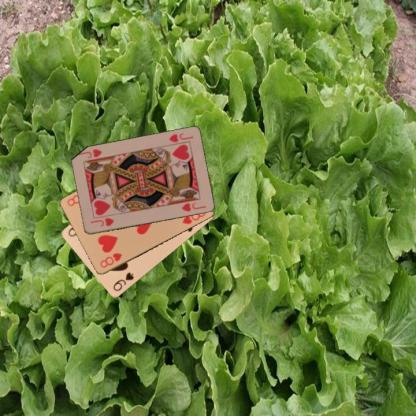8h: (97, 250, 123, 269)
9s: (110, 270, 136, 292)
Jh: (88, 214, 115, 229), (166, 130, 194, 144)
